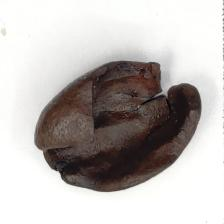NG: (41, 139, 192, 194), (121, 50, 206, 138), (84, 73, 119, 139)
